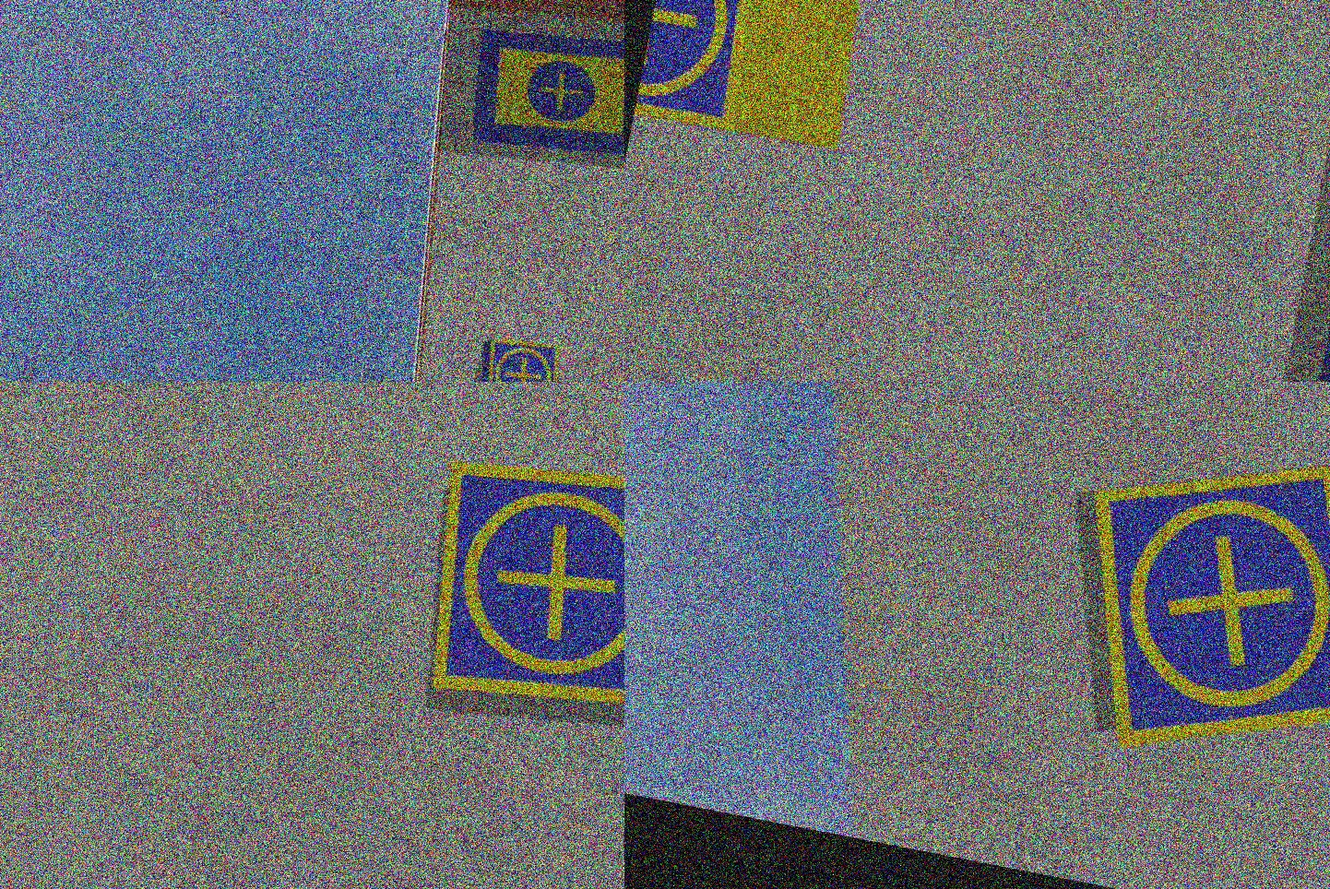large_base: (458, 11, 624, 178)
small_base: (1046, 422, 1330, 791), (406, 439, 624, 735), (635, 1, 775, 137), (475, 328, 570, 382)
